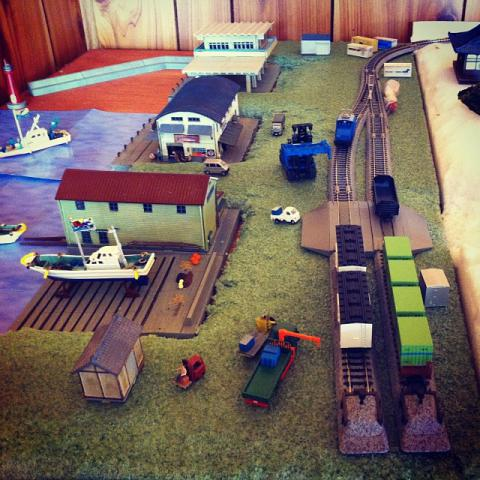truck: (244, 326, 326, 414), (280, 123, 332, 181), (270, 207, 301, 223), (203, 158, 230, 174), (270, 114, 286, 136)
